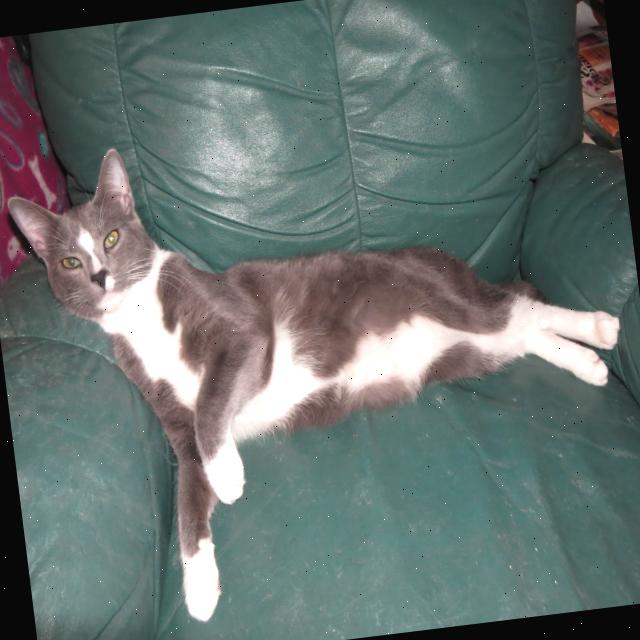russian_blue_cat: (0, 131, 177, 336)
